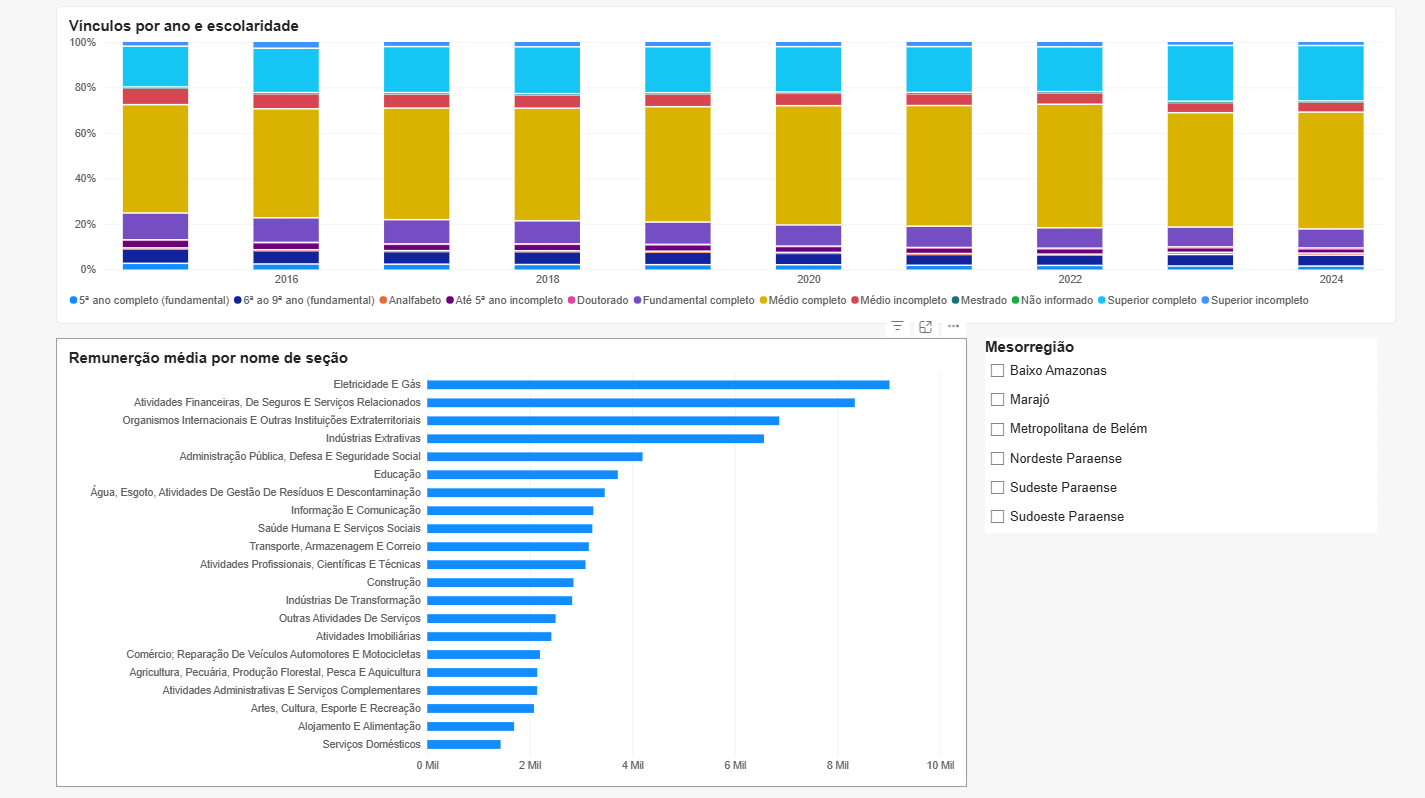

The page's visual inventory and layout, read from the dashboard file:
{"tool":"powerbi","page":{"name":"Setor e escolaridade","canvas":[1920,1080],"ordinal":1},"visuals":[{"type":"hundredPercentStackedColumnChart","fields":{"Category":["dim_tempo.ano"],"Series":["dim_escolaridade.escolaridade"],"Y":["dim_cnae.Vínculos"]},"box":[85.3,21.3,1786.7,424],"z":0},{"type":"barChart","title":"Remunerção média por nome de seção","fields":{"Category":["dim_cnae.descricao_secao"],"Y":["dim_cnae.Remuneração Média"]},"box":[85.3,464,1214.7,598.7],"z":1000},{"type":"slicer","title":"Mesorregião","fields":{"Values":["dim_municipio.nome_mesorregiao"]},"box":[1324,464,522.7,260],"z":2000}]}

Visuals, with their boxes in screenshot pixels (x1, y1, x2, y2), scaled from the page's 1920x1080 canvas onto the 1425x798 screenshot:
hundredPercentStackedColumnChart - dim_tempo.ano x dim_escolaridade.escolaridade: x1=63 y1=16 x2=1389 y2=329
"Remunerção média por nome de seção" barChart: x1=63 y1=343 x2=965 y2=785
"Mesorregião" slicer: x1=983 y1=343 x2=1371 y2=535
